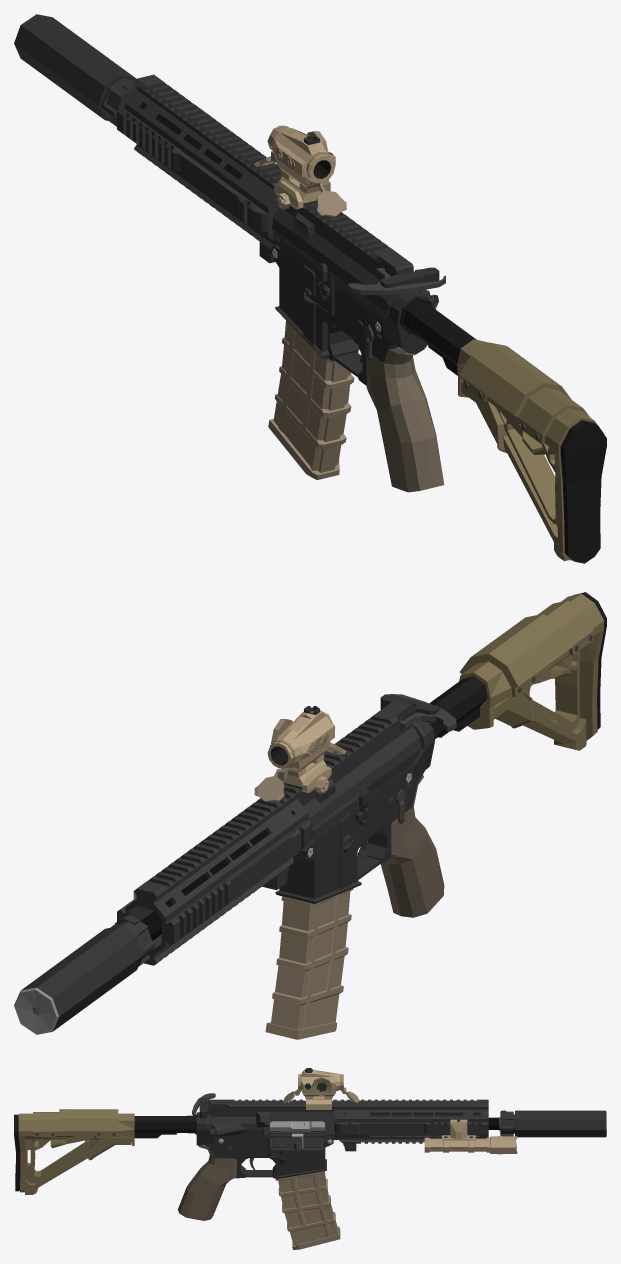
File: L119A2_Carbine.fbx
3 views of the same model, one above another, from view 1: azimuth 30°, elevation 25°; view 2: azimuth 150°, elevation 25°; view 3: azimuth 270°, elevation 25° (orthographic). The views are drawn at different scales.
Visible parts, largest first — view 1: Receiver, stock_AR15_magpul, mag_waffle, silencer, reddot, charging_handle; view 2: Receiver, stock_AR15_magpul, mag_waffle, silencer, reddot, charging_handle, red dot cover; view 3: Receiver, stock_AR15_magpul, mag_waffle, silencer, flashlight, reddot, dustcover, Bolt_carrier, charging_handle.
Part boxes in pixels (<box>): Receiver: <box>117,74,476,492</box>; stock_AR15_magpul: <box>457,339,606,563</box>; mag_waffle: <box>268,320,354,480</box>; silencer: <box>14,14,136,126</box>; reddot: <box>267,125,335,209</box>; charging_handle: <box>348,267,445,295</box>; Receiver: <box>117,676,487,965</box>; stock_AR15_magpul: <box>459,592,606,750</box>; mag_waffle: <box>265,888,353,1039</box>; silencer: <box>14,915,155,1034</box>; reddot: <box>267,706,334,793</box>; charging_handle: <box>380,694,456,731</box>; red dot cover: <box>254,769,284,802</box>; Receiver: <box>134,1099,500,1220</box>; stock_AR15_magpul: <box>14,1109,134,1194</box>; mag_waffle: <box>275,1131,340,1249</box>; silencer: <box>500,1110,606,1137</box>; flashlight: <box>424,1119,517,1154</box>; reddot: <box>295,1068,346,1109</box>; dustcover: <box>270,1133,324,1150</box>; Bolt_carrier: <box>270,1121,324,1130</box>; charging_handle: <box>192,1093,218,1118</box>.
Size of the model in its own units: 8.87 by 28.62 by 86.87.
